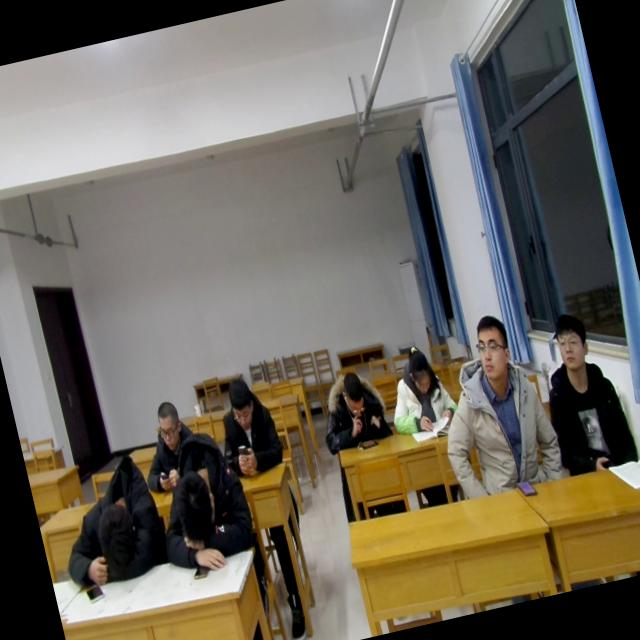bow: (44, 448, 170, 595), (145, 431, 265, 582)
down: (220, 370, 261, 430), (400, 340, 440, 398), (150, 395, 186, 454), (335, 366, 371, 425)
lookup: (467, 308, 518, 391), (545, 306, 594, 376)
sit: (417, 301, 564, 501), (528, 304, 640, 475), (206, 366, 291, 485), (378, 332, 462, 452), (310, 365, 400, 458), (131, 390, 206, 487)
